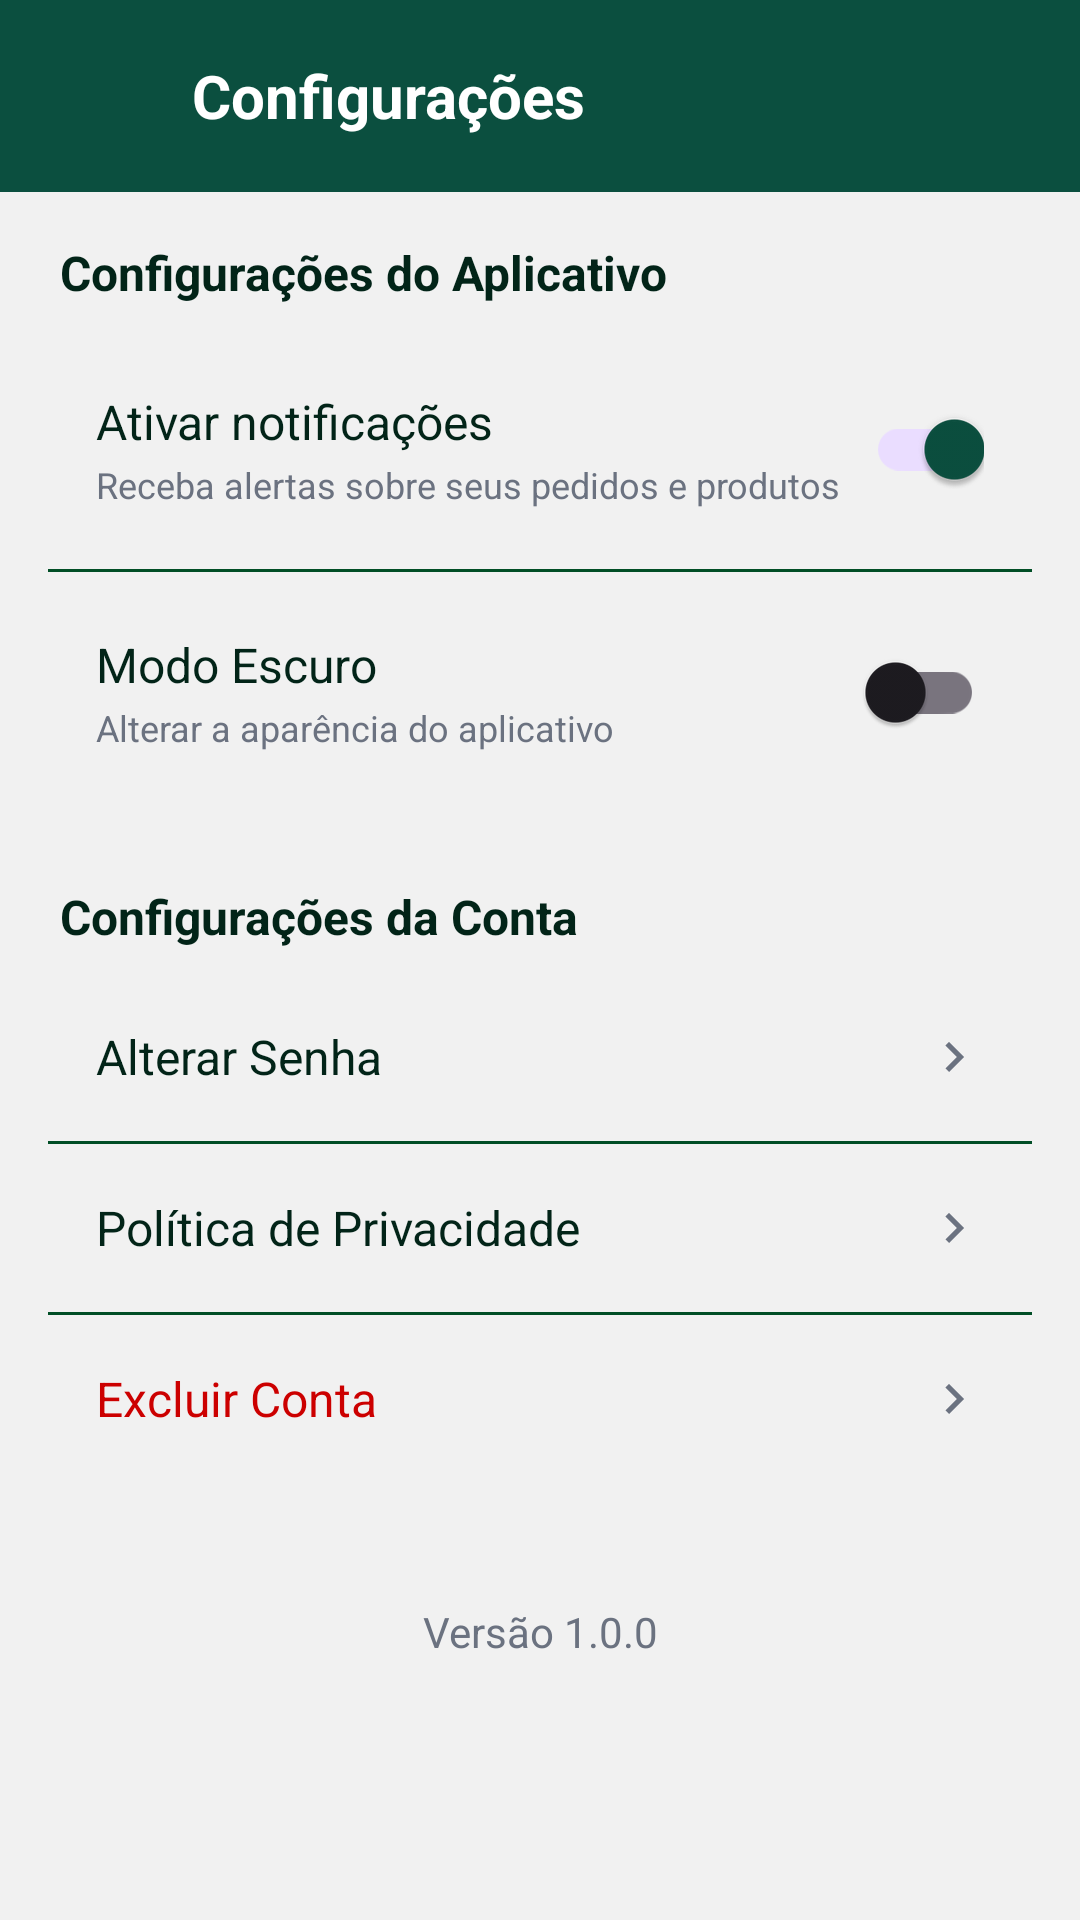

Named icons in this screenshot (1080px x 1920px) and their bounding boxes, (x1, y1, x2, y2):
Arrow: (945, 1042, 964, 1072), (945, 1213, 964, 1243), (945, 1384, 964, 1414)
